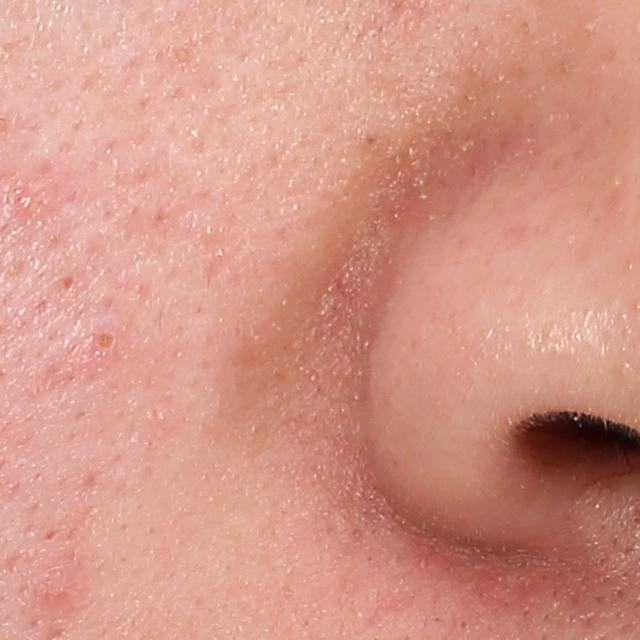comedo: (93, 332, 117, 349)
papule: (36, 573, 76, 608)
